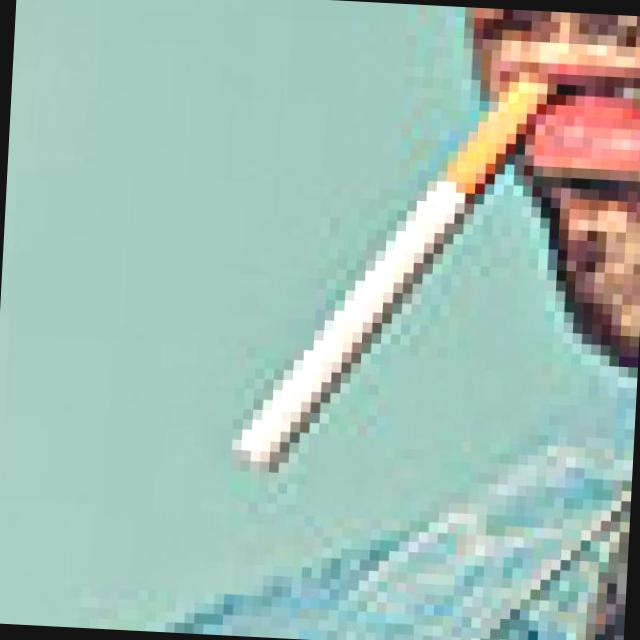cigarette: (231, 48, 558, 476)
